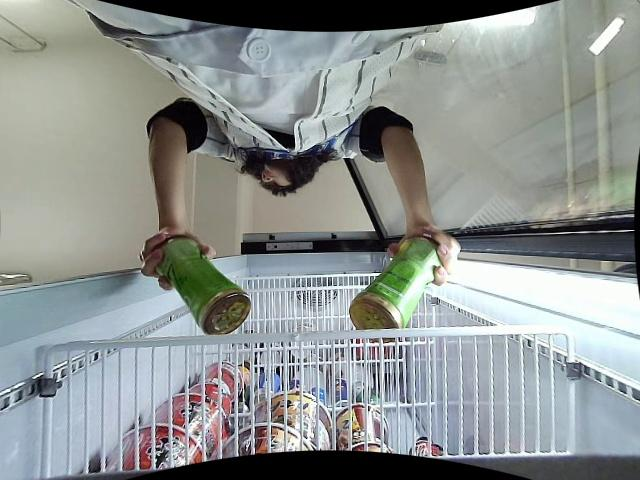00_hand: (138, 229, 217, 289), (389, 227, 463, 288)
19_17cha: (155, 233, 251, 334), (350, 236, 438, 333)
